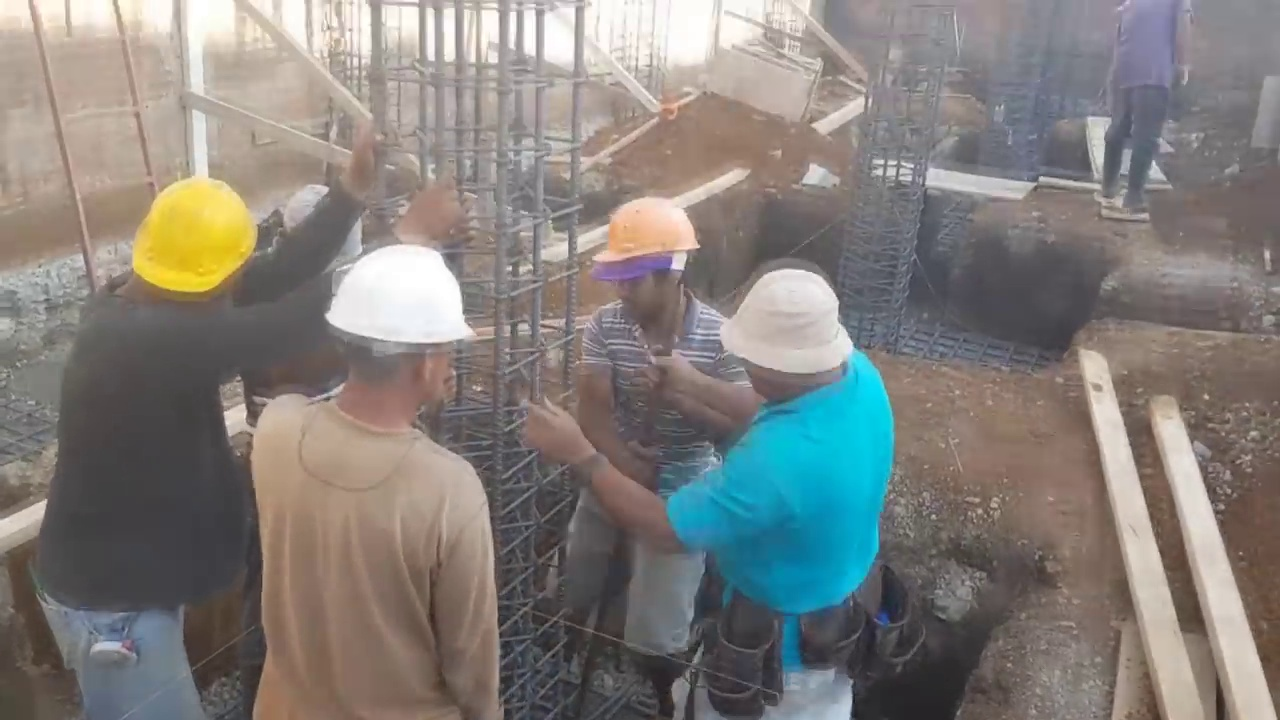helmet: (322, 240, 469, 357), (122, 178, 252, 297), (599, 195, 702, 270)
helmet-off: (702, 270, 861, 412)
helmet-on: (318, 230, 474, 442), (109, 177, 256, 317), (595, 195, 702, 346)
person: (39, 108, 470, 720), (526, 270, 895, 720), (242, 233, 511, 720), (581, 197, 756, 709), (1095, 0, 1197, 218)
